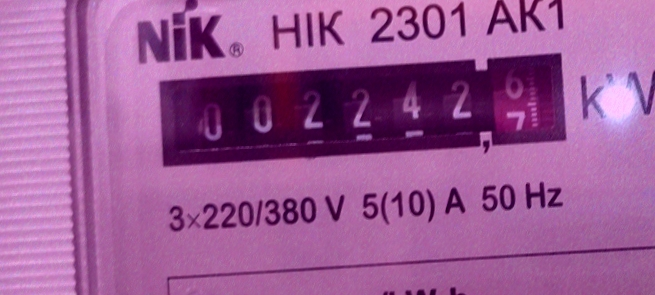0: (248, 91, 275, 134), (300, 87, 326, 130), (200, 98, 224, 143)
2: (447, 76, 474, 121), (349, 85, 374, 130)
4: (398, 77, 423, 121)
6: (502, 66, 527, 100)
7: (504, 108, 528, 132)
screen: (148, 41, 584, 182)
